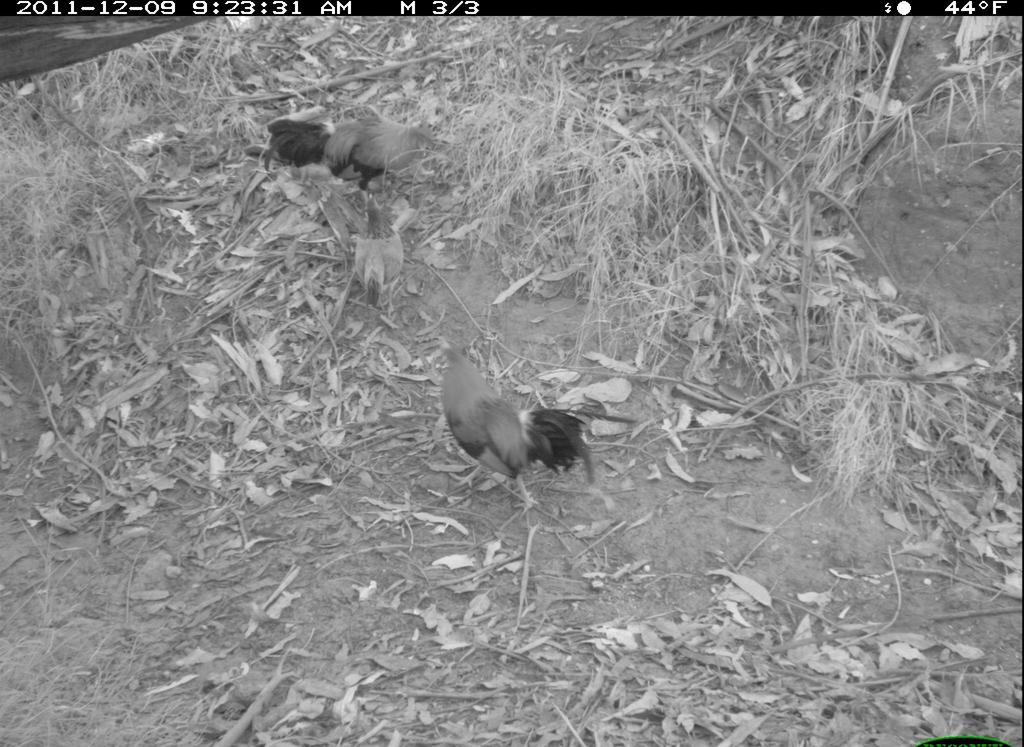bird: (434, 327, 609, 523), (264, 99, 461, 210), (342, 185, 418, 321)
